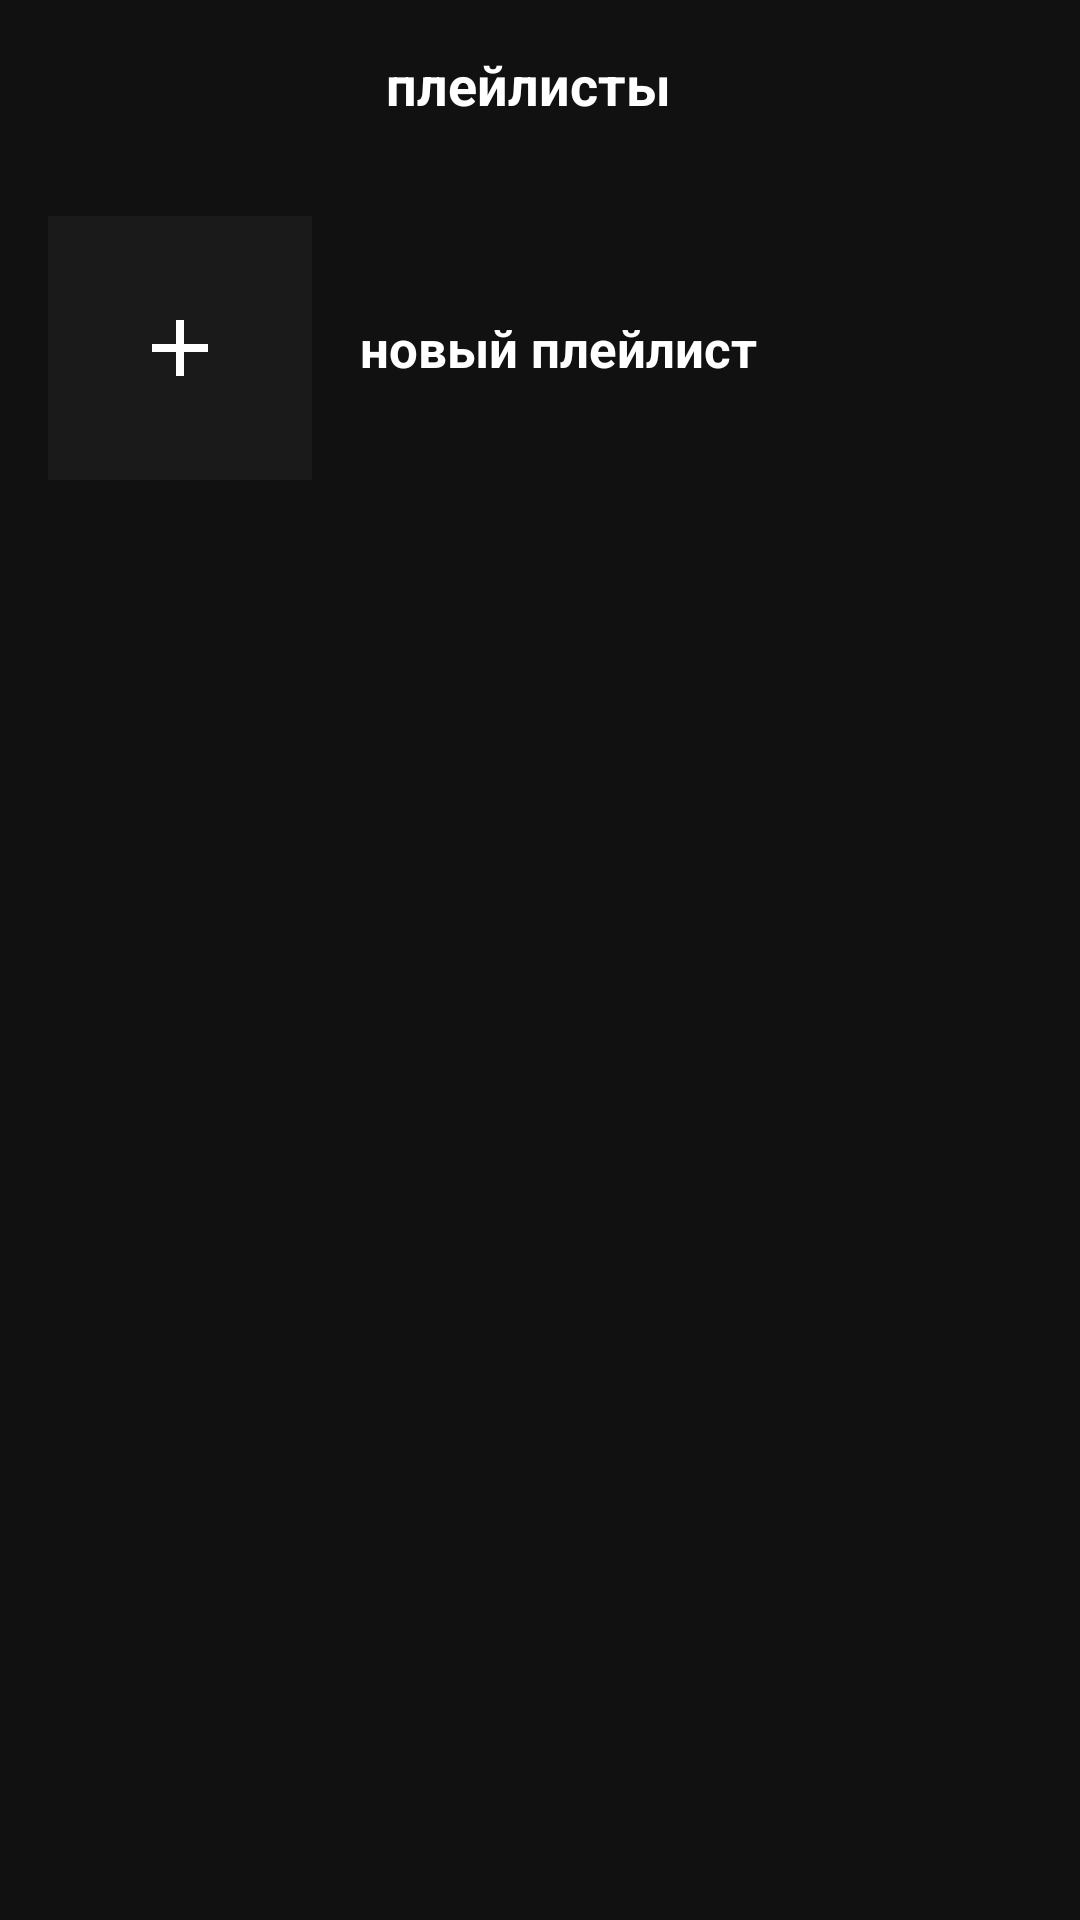

Icons on this 1080w x 1920h Android screen, each with the point to tap as [x,y]:
add: [180,348]
